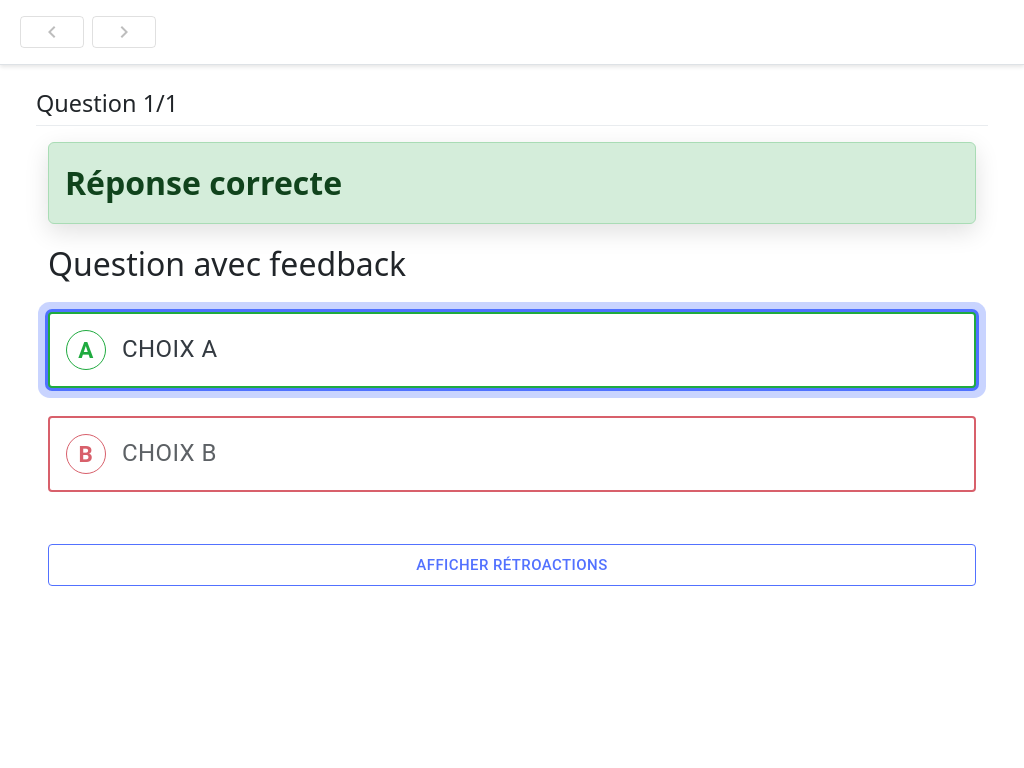
it: StudentModeQuizV2 feedback toggle › starts hidden, then shows and hides feedback on toggle
Click the button "Afficher rétroactions".
click(512, 565)  # box x1=48 y1=544 x2=976 y2=586
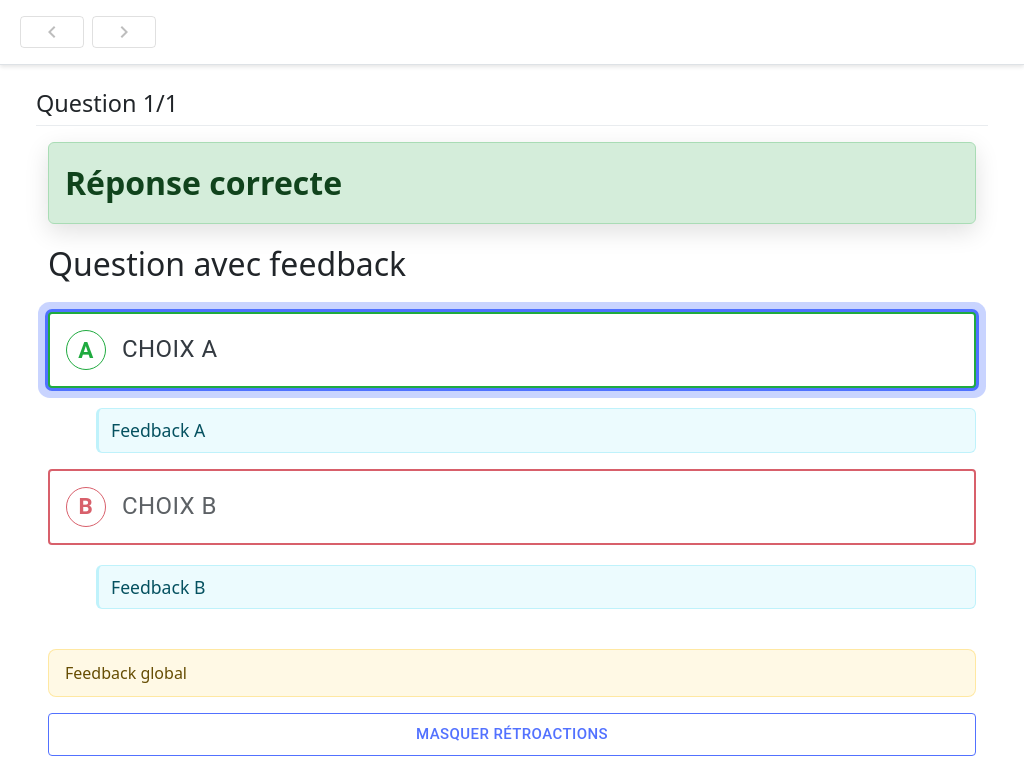
Now the text "Feedback A" is shown, box x1=111 y1=418 x2=205 y2=442
Now the text "Feedback global" is shown, box x1=65 y1=662 x2=187 y2=684
Now the button "Masquer rétroactions" is shown
Click the button "Masquer rétroactions".
click(512, 734)  # box x1=48 y1=713 x2=976 y2=756
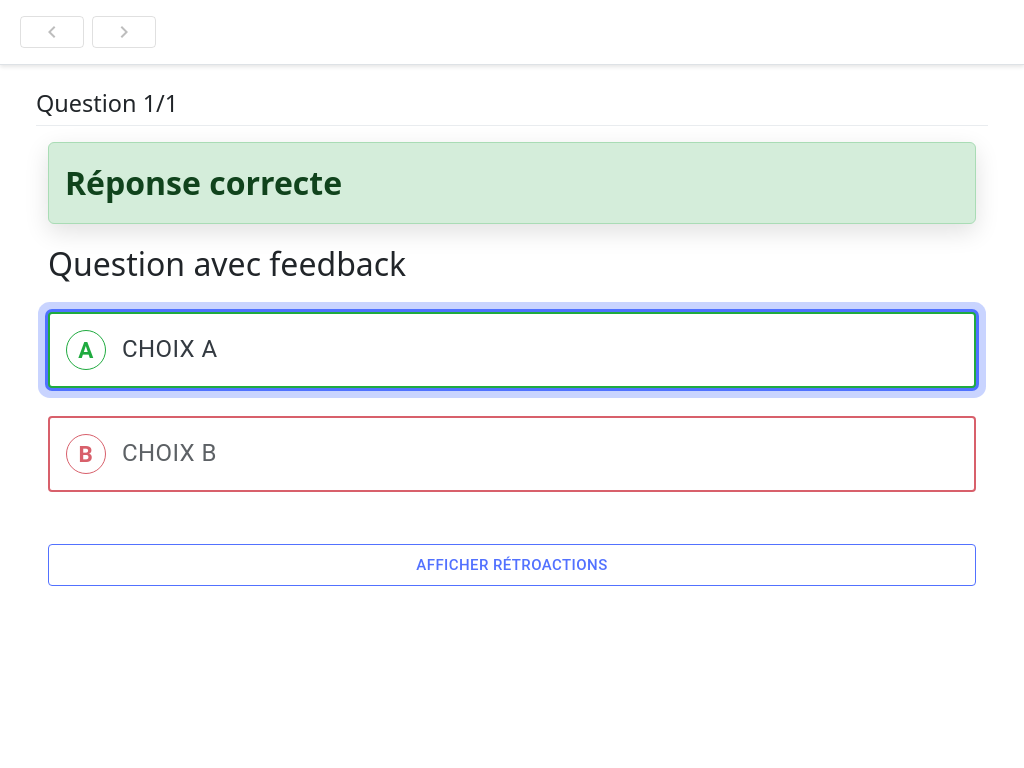
Now the text "Feedback global" is gone
